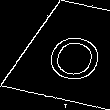O_N: (37, 22, 104, 82)
